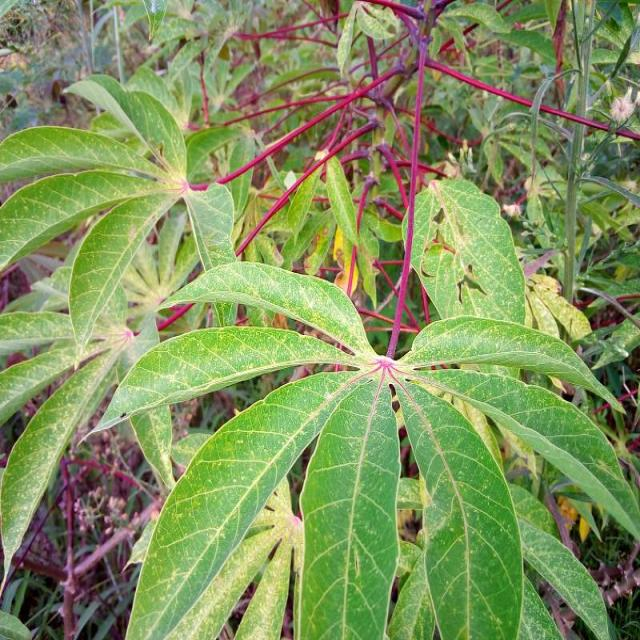cassava leaf: (124, 368, 370, 638), (395, 374, 524, 638), (294, 369, 401, 638), (400, 176, 526, 325)
